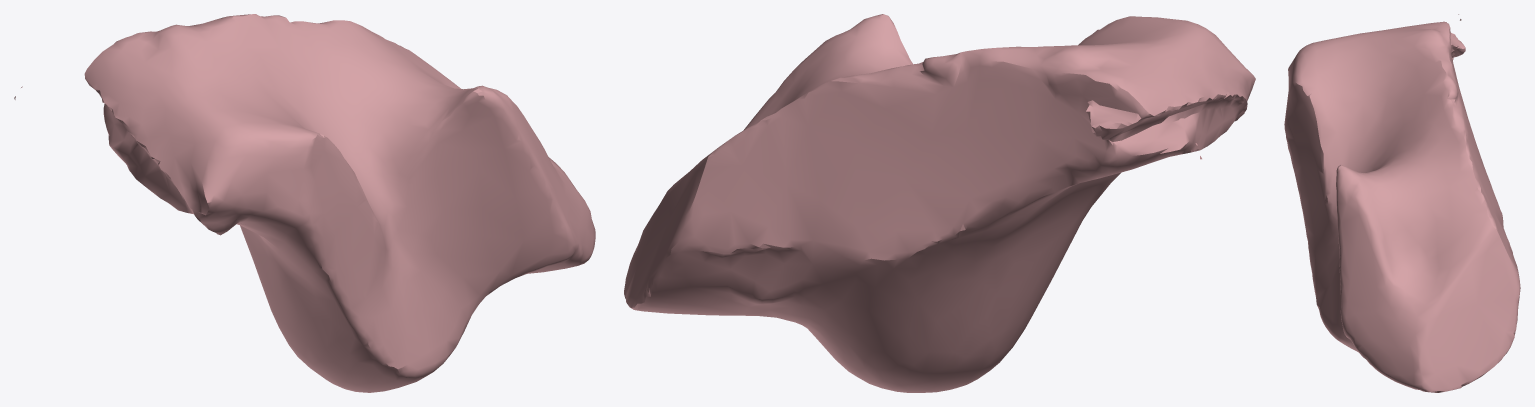
The model's file is fma74886-l_mm3292.glb.
3 renders of one model, left to right at view 1: azimuth 30°, elevation 25°; view 2: azimuth 150°, elevation 25°; view 3: azimuth 270°, elevation 25°, orthographic. The views are drawn at different scales.
Parts seen in each view (by area): view 1: FMA74886-L_MM3292; view 2: FMA74886-L_MM3292; view 3: FMA74886-L_MM3292.
Part boxes in pixels (x1,y1,x2,y2): FMA74886-L_MM3292: (14, 14, 595, 392); FMA74886-L_MM3292: (624, 14, 1255, 392); FMA74886-L_MM3292: (1284, 14, 1520, 392).
Bounding box in the file's own units: 0.0269 × 0.0173 × 0.014.
